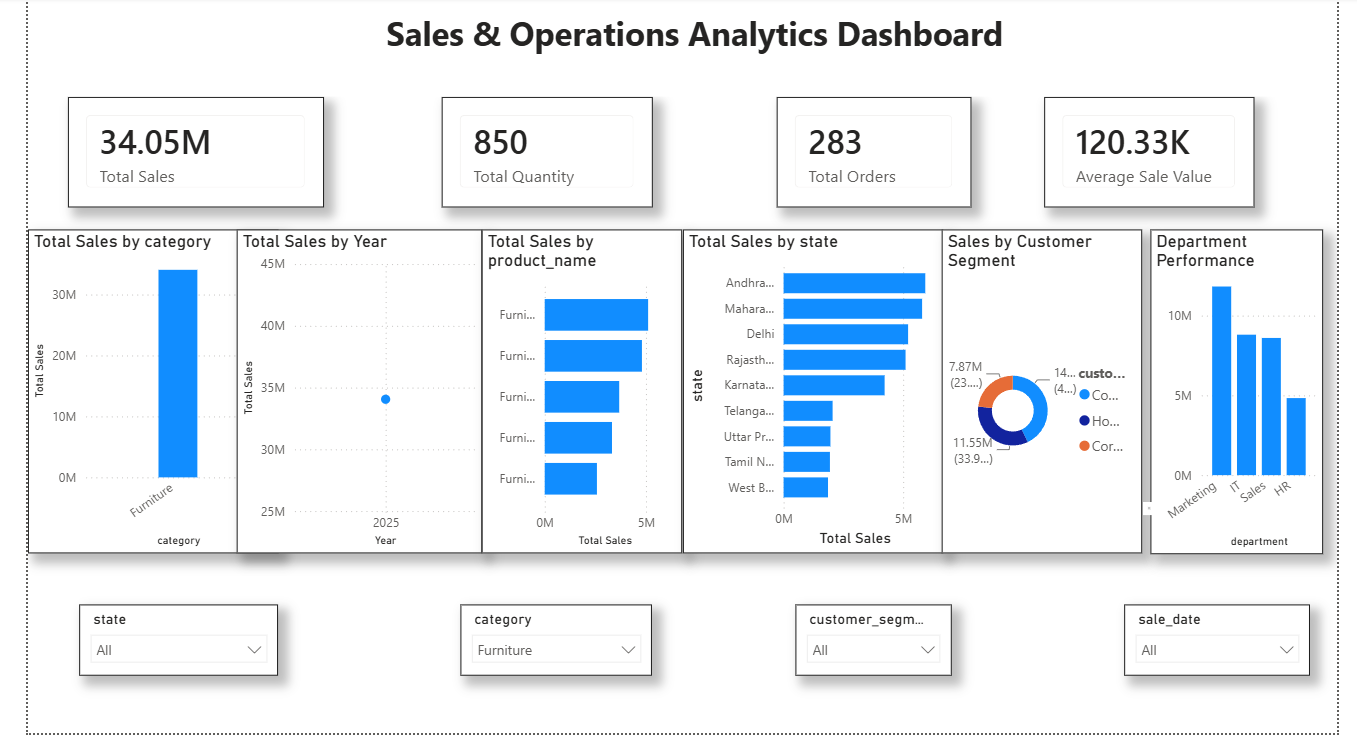

Layout of this report page (visuals, bound fields, positions):
{"tool":"powerbi","page":{"name":"Page 1","canvas":[1280,720],"ordinal":0},"visuals":[{"type":"cardVisual","fields":{"Data":["sales.Total Sales"]},"box":[39.1,97.8,250.7,107.6],"z":0},{"type":"cardVisual","fields":{"Data":["sales.Total Quantity"]},"box":[404.8,97.8,206.7,107.6],"z":1000},{"type":"cardVisual","fields":{"Data":["sales.Total Orders"]},"box":[732.5,97.8,190.8,107.6],"z":2000},{"type":"cardVisual","fields":{"Data":["sales.Average Sale Value"]},"box":[994.2,97.8,205.4,107.6],"z":3000},{"type":"clusteredColumnChart","fields":{"Category":["products.category"],"Y":["sales.Total Sales"]},"box":[0,227.8,244.4,316.7],"z":4000},{"type":"lineChart","fields":{"Category":["sales.sale_date.Variation.Date Hierarchy.Year","sales.sale_date.Variation.Date Hierarchy.Quarter","sales.sale_date.Variation.Date Hierarchy.Month","sales.sale_date.Variation.Date Hierarchy.Day"],"Y":["sales.Total Sales"]},"box":[204.2,227.8,240.3,316.7],"z":5000},{"type":"clusteredBarChart","fields":{"Category":["products.product_name"],"Y":["sales.Total Sales"]},"box":[444.4,227.8,195.8,316.7],"z":6000},{"type":"clusteredBarChart","fields":{"Category":["customers.state"],"Y":["sales.Total Sales"]},"box":[640.3,227.8,254.2,316.7],"z":7000},{"type":"donutChart","title":"Sales by Customer Segment","fields":{"Category":["customers.customer_segment"],"Y":["sales.Total Sales"]},"box":[894.4,227.8,195.8,316.7],"z":8000},{"type":"columnChart","title":"Department Performance","fields":{"Category":["employees.department"],"Y":["sales.Total Sales"]},"box":[1097.5,227.5,168.8,317.5],"z":9000},{"type":"slicer","fields":{"Values":["customers.state"]},"box":[50,594.4,194.4,69.4],"z":10000},{"type":"slicer","fields":{"Values":["products.category"]},"box":[423.6,594.4,187.5,69.4],"z":11000},{"type":"slicer","fields":{"Values":["customers.customer_segment"]},"box":[751.4,594.4,152.8,69.4],"z":12000},{"type":"slicer","fields":{"Values":["sales.sale_date"]},"box":[1072.2,594.4,181.9,69.4],"z":13000},{"type":"textbox","box":[1090.3,494.4,12.5,12.5],"z":15000},{"type":"textbox","box":[25,8.3,1255.6,88.9],"z":16000}]}

Visuals, with their boxes in screenshot pixels (x1, y1, x2, y2), scaled from the page's 1280x720 canvas onto the 1357x742 screenshot:
cardVisual - sales.Total Sales: 41,101,307,212
cardVisual - sales.Total Quantity: 429,101,648,212
cardVisual - sales.Total Orders: 777,101,979,212
cardVisual - sales.Average Sale Value: 1054,101,1272,212
clusteredColumnChart - products.category x sales.Total Sales: 0,235,259,561
lineChart - sales.sale_date.Variation.Date Hierarchy.Year x sales.sale_date.Variation.Date Hierarchy.Quarter: 216,235,471,561
clusteredBarChart - products.product_name x sales.Total Sales: 471,235,679,561
clusteredBarChart - customers.state x sales.Total Sales: 679,235,948,561
"Sales by Customer Segment" donutChart: 948,235,1156,561
"Department Performance" columnChart: 1164,234,1342,562
slicer - customers.state: 53,613,259,684
slicer - products.category: 449,613,648,684
slicer - customers.customer_segment: 797,613,959,684
slicer - sales.sale_date: 1137,613,1330,684
textbox: 1156,510,1169,522
textbox: 27,9,1356,100
